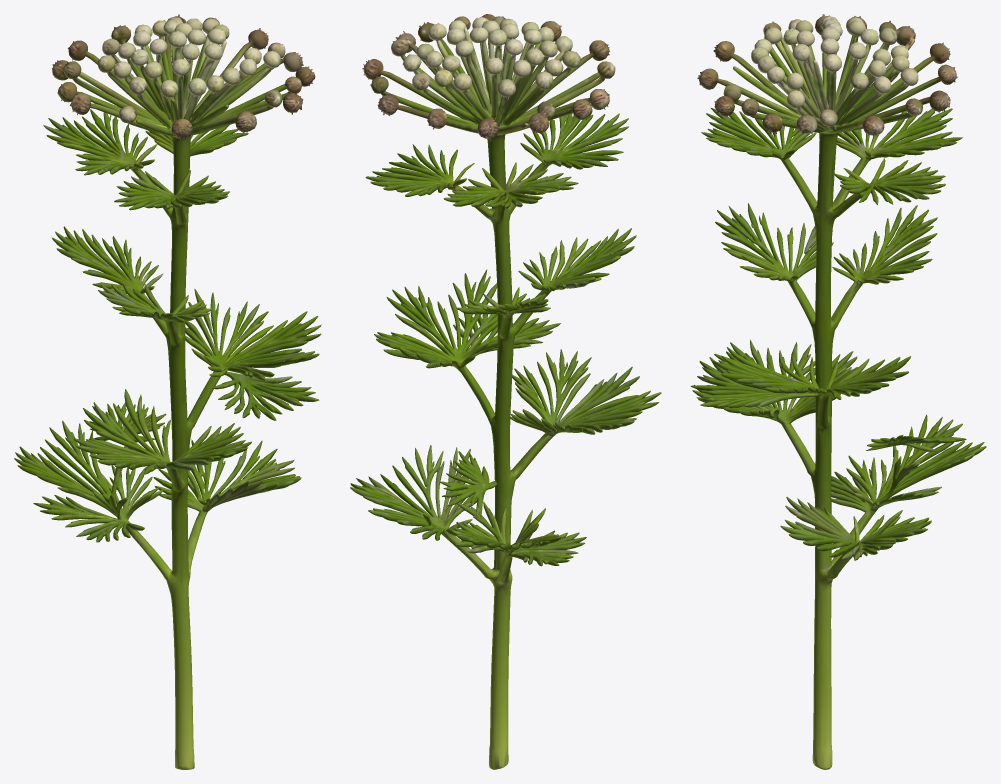
File: yansui.glb
3 renders of one model, left to right at view 1: azimuth 30°, elevation 25°; view 2: azimuth 150°, elevation 25°; view 3: azimuth 270°, elevation 25°, orthographic.
Visible parts, largest first — view 1: node_0; view 2: node_0; view 3: node_0.
Part boxes in pixels (x1,y1,x2,y2): node_0: (14,14,321,769); node_0: (350,14,661,769); node_0: (690,14,986,769).
Size of the model in its own units: 0.4256 by 1.2 by 0.4365.
Materials: 1 (1 with a texture image).
